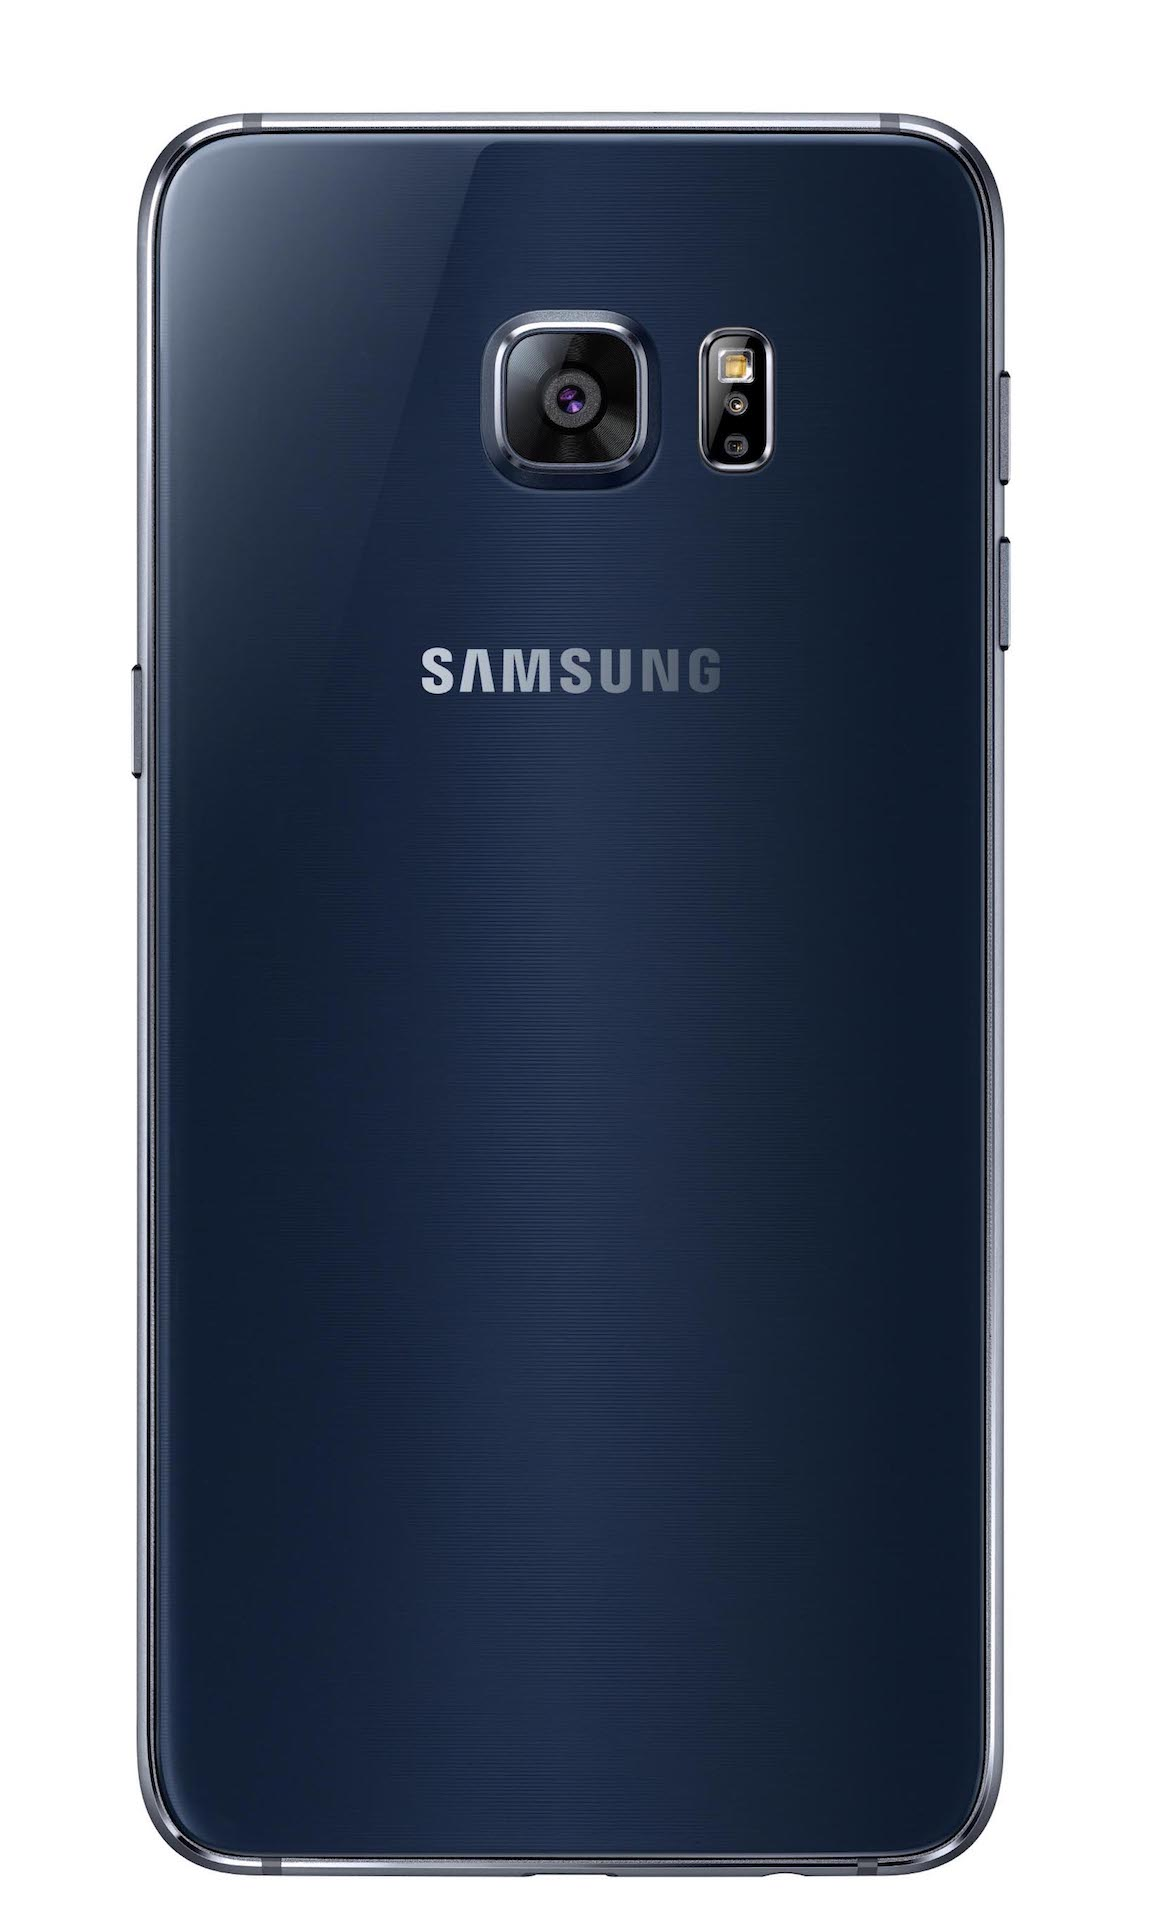smartphone: (126, 108, 1016, 1882)
